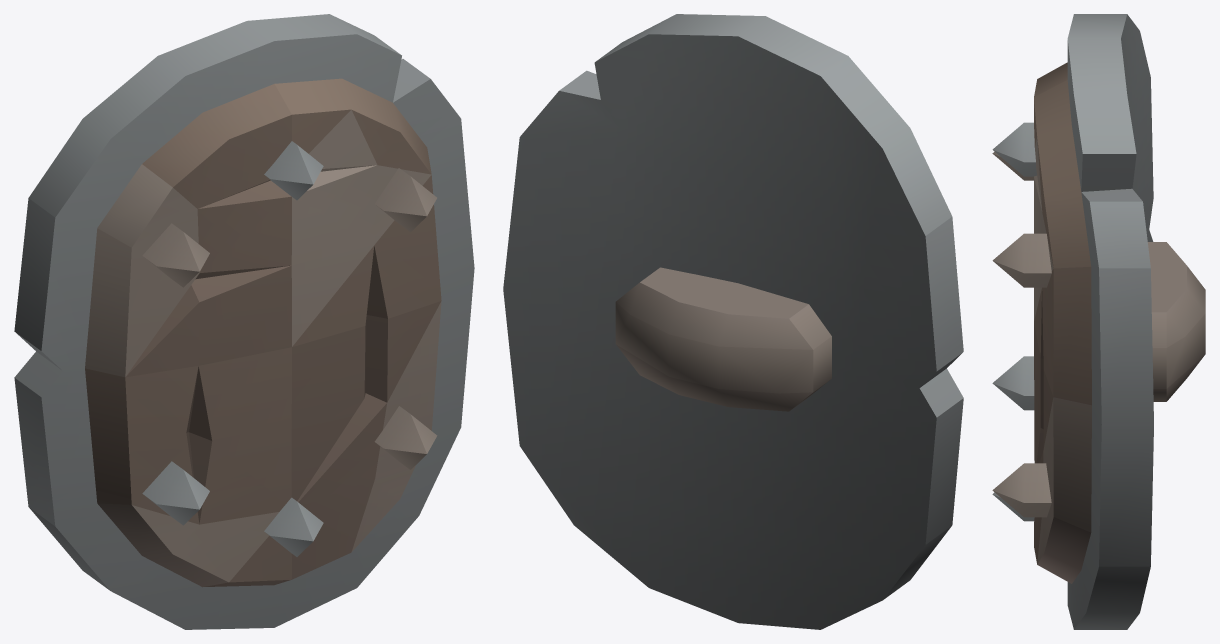
The model's file is Skeleton_Shield_Large_B.glb.
3 views of the same model, side by side, from view 1: azimuth 30°, elevation 25°; view 2: azimuth 150°, elevation 25°; view 3: azimuth 270°, elevation 25° (orthographic). The views are drawn at different scales.
Size of the model in its own units: 0.8771 by 1.13 by 0.3871.
1 material, 1 textured.
